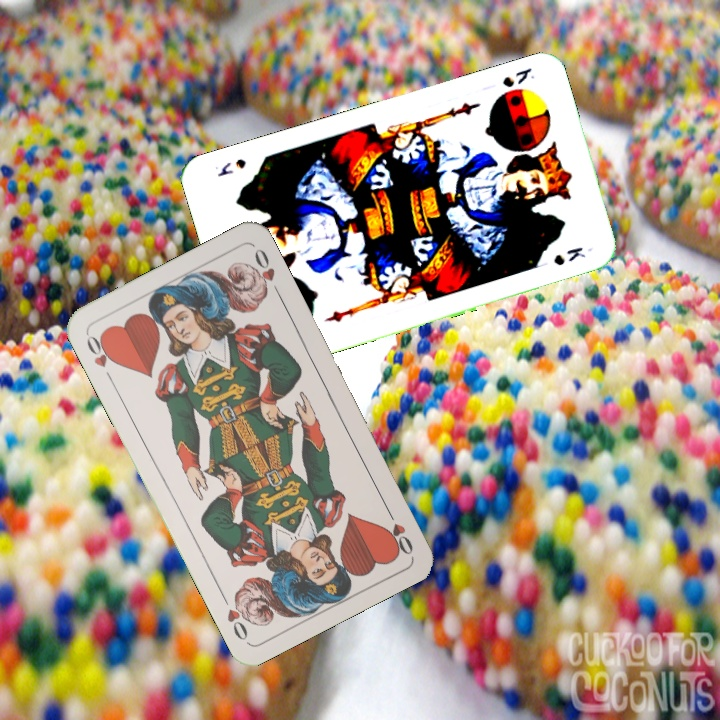HO: (82, 330, 119, 385), (381, 502, 416, 558)
SK: (498, 64, 537, 90)
